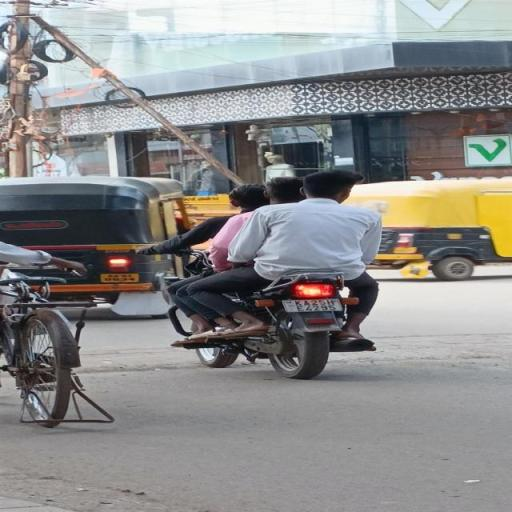tripple riding: (138, 170, 407, 271)
